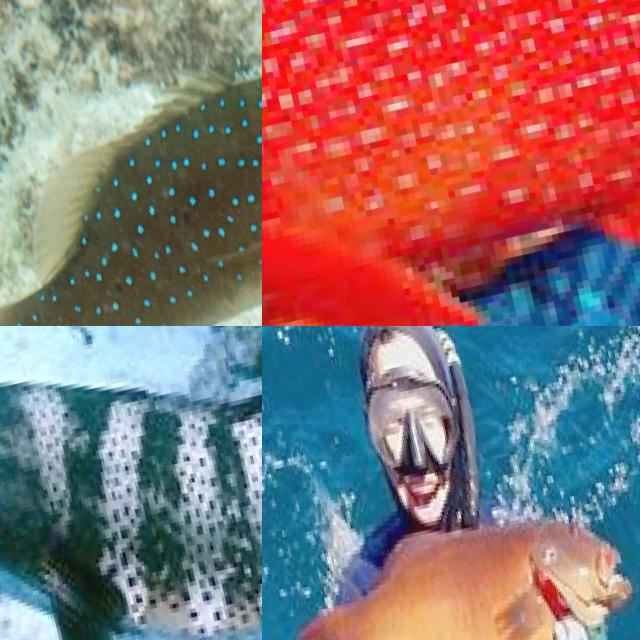Plectropomus-leopardus: (262, 0, 640, 326), (0, 5, 262, 326), (0, 326, 262, 640), (267, 487, 640, 640)
